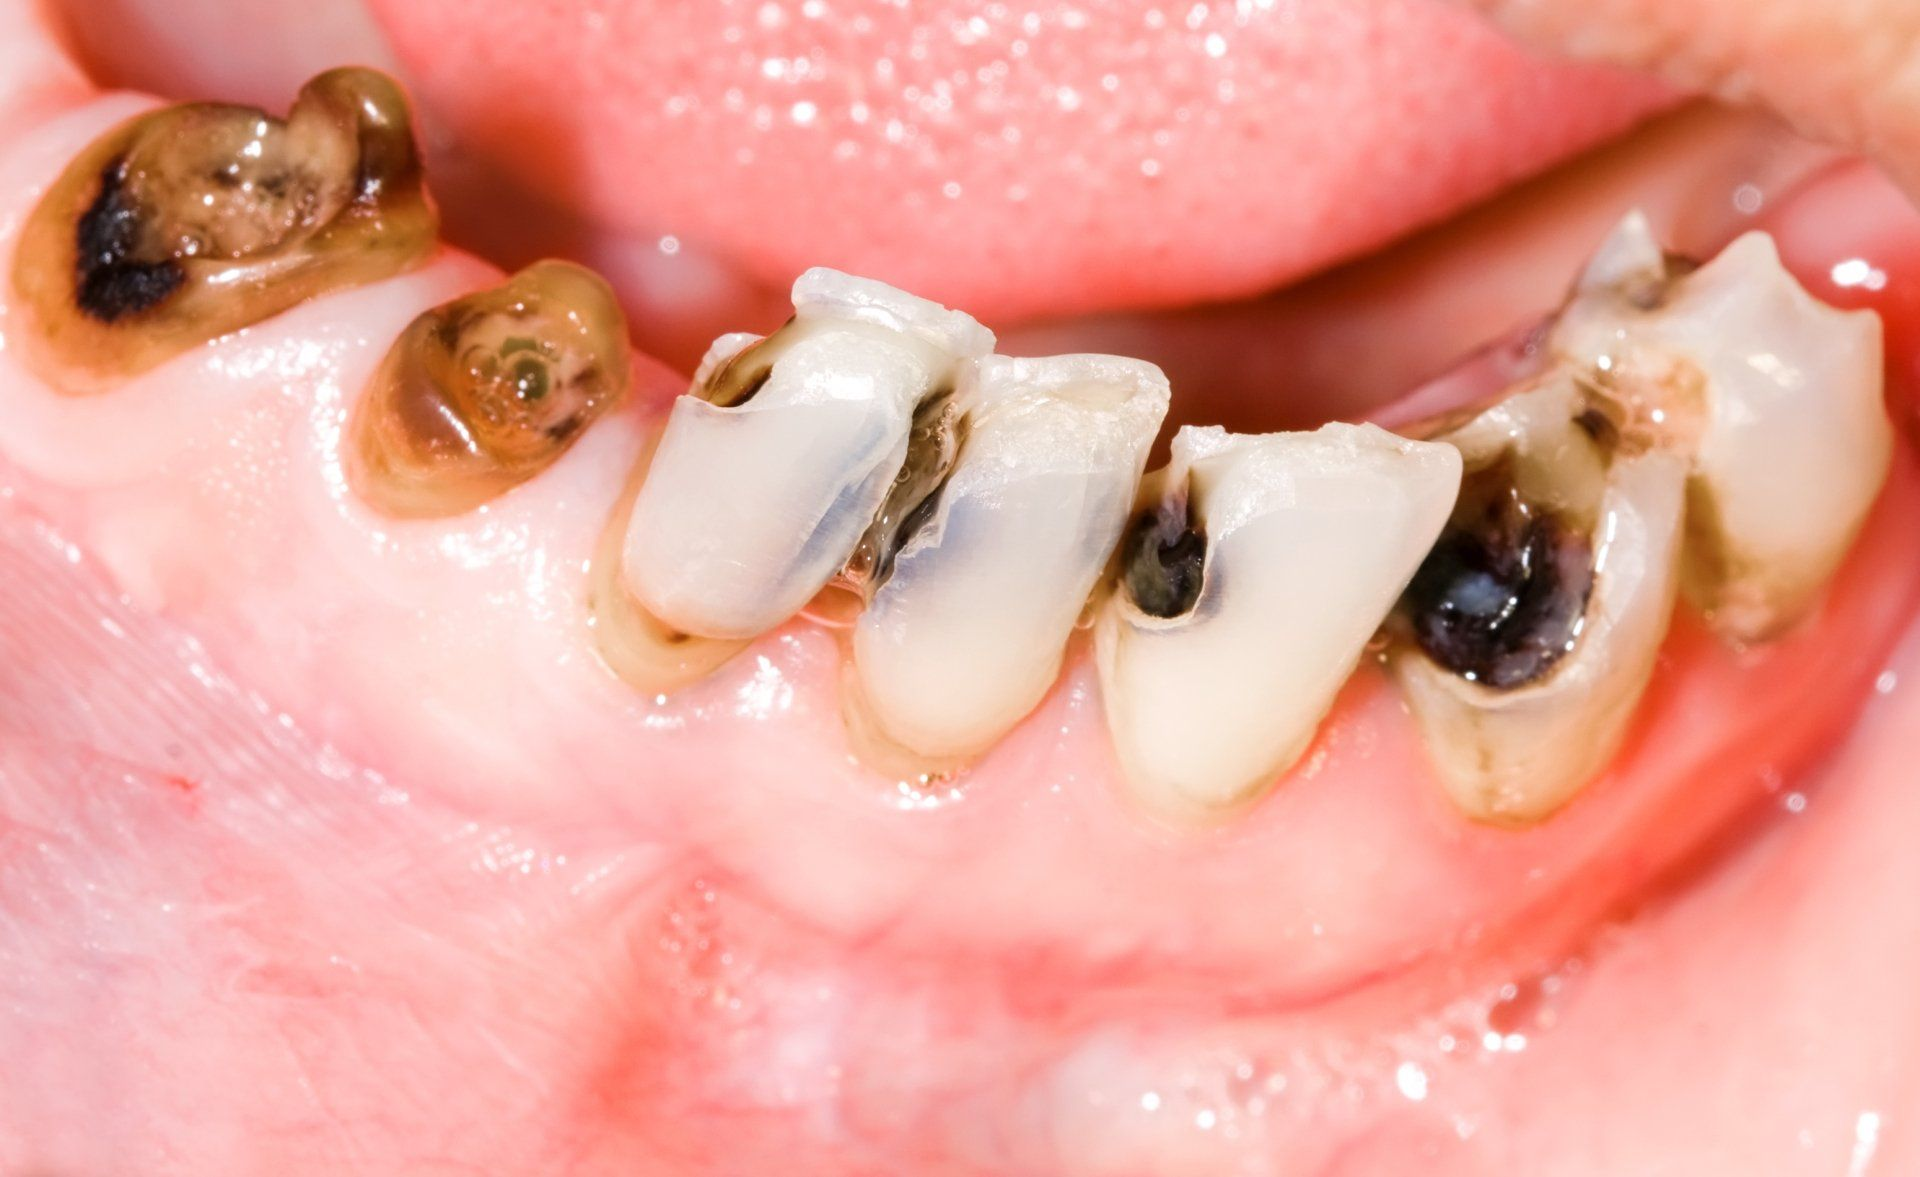decay: (619, 233, 972, 656), (1100, 390, 1441, 813), (849, 311, 1147, 764), (1576, 204, 1877, 641), (1393, 376, 1676, 820), (47, 70, 420, 359), (341, 252, 621, 539)
